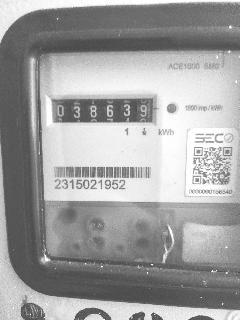1: (58, 106, 64, 117)
4: (124, 104, 130, 116), (74, 107, 80, 118)
7: (107, 105, 113, 117)
9: (90, 106, 96, 118)
:: (141, 106, 147, 117)
